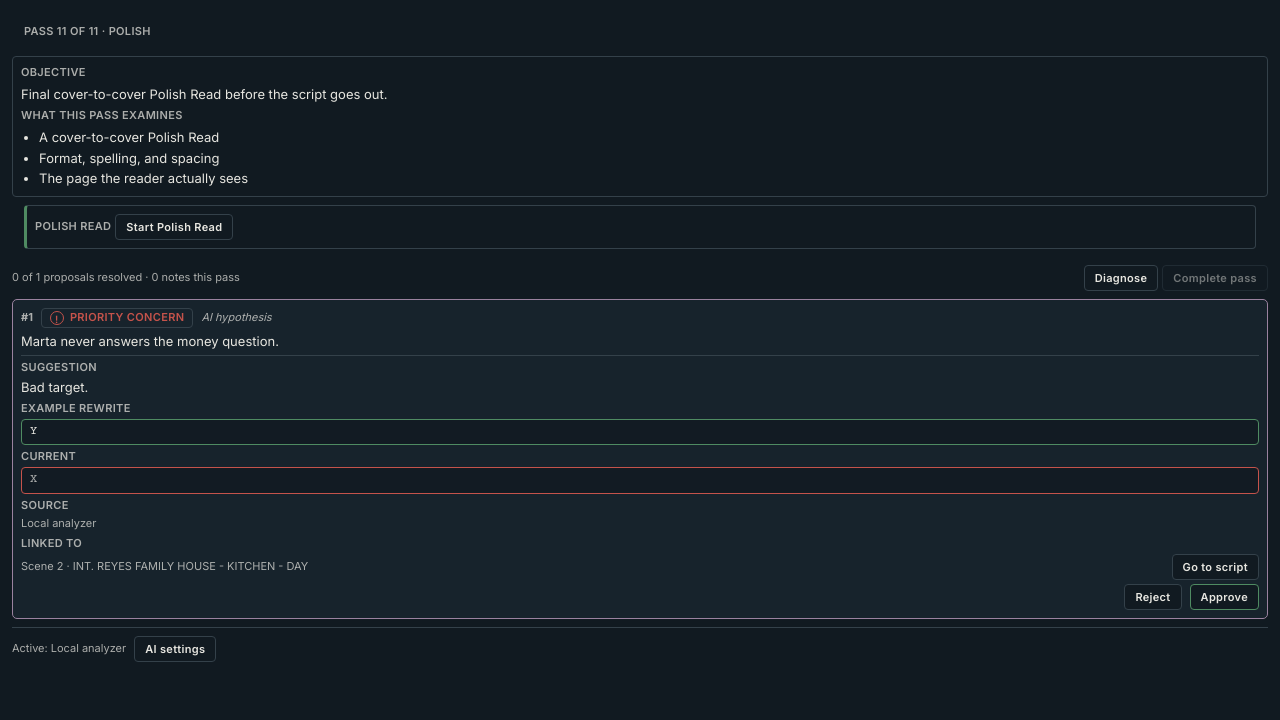
Test case: structured finding card › a failed approval explains itself and reassures nothing changed
Step 1. Click the button "Approve" → (1224,597), box [1190,584,1259,610]
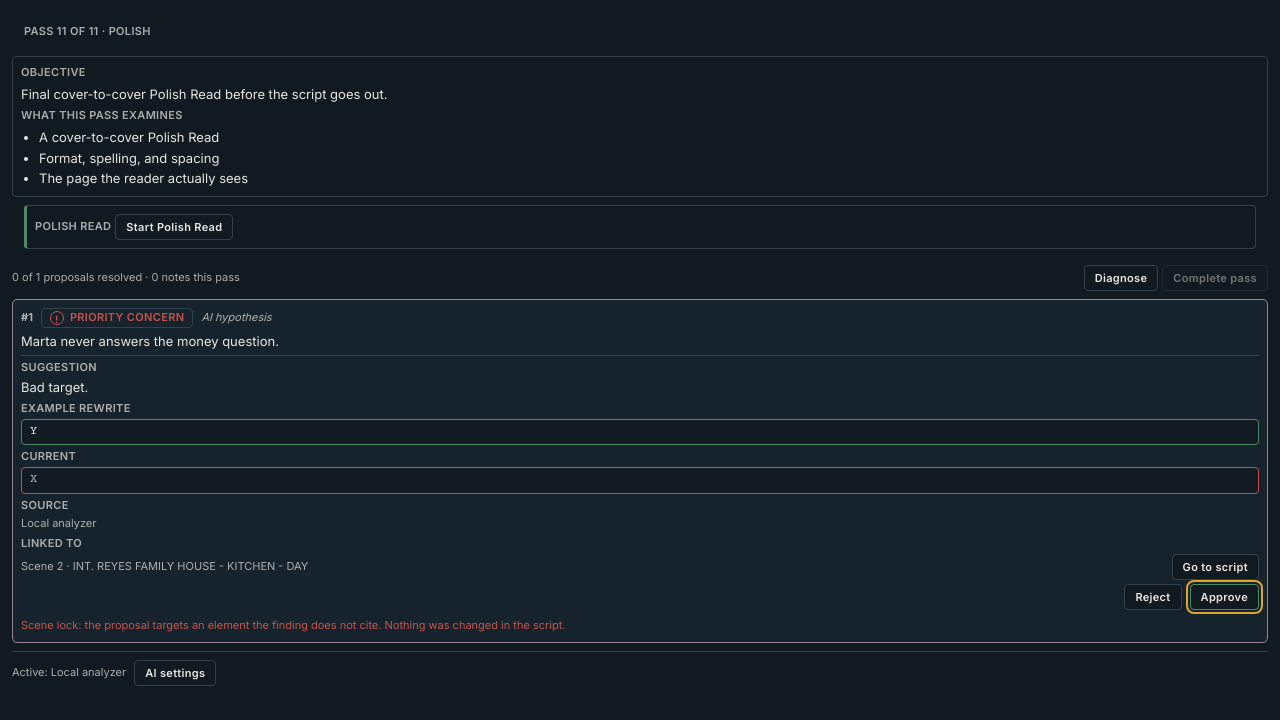
Check: the message shows "Scene lock", box [21,618,382,632]
Check: the message shows "nothing was changed in the script", box [384,618,565,632]
